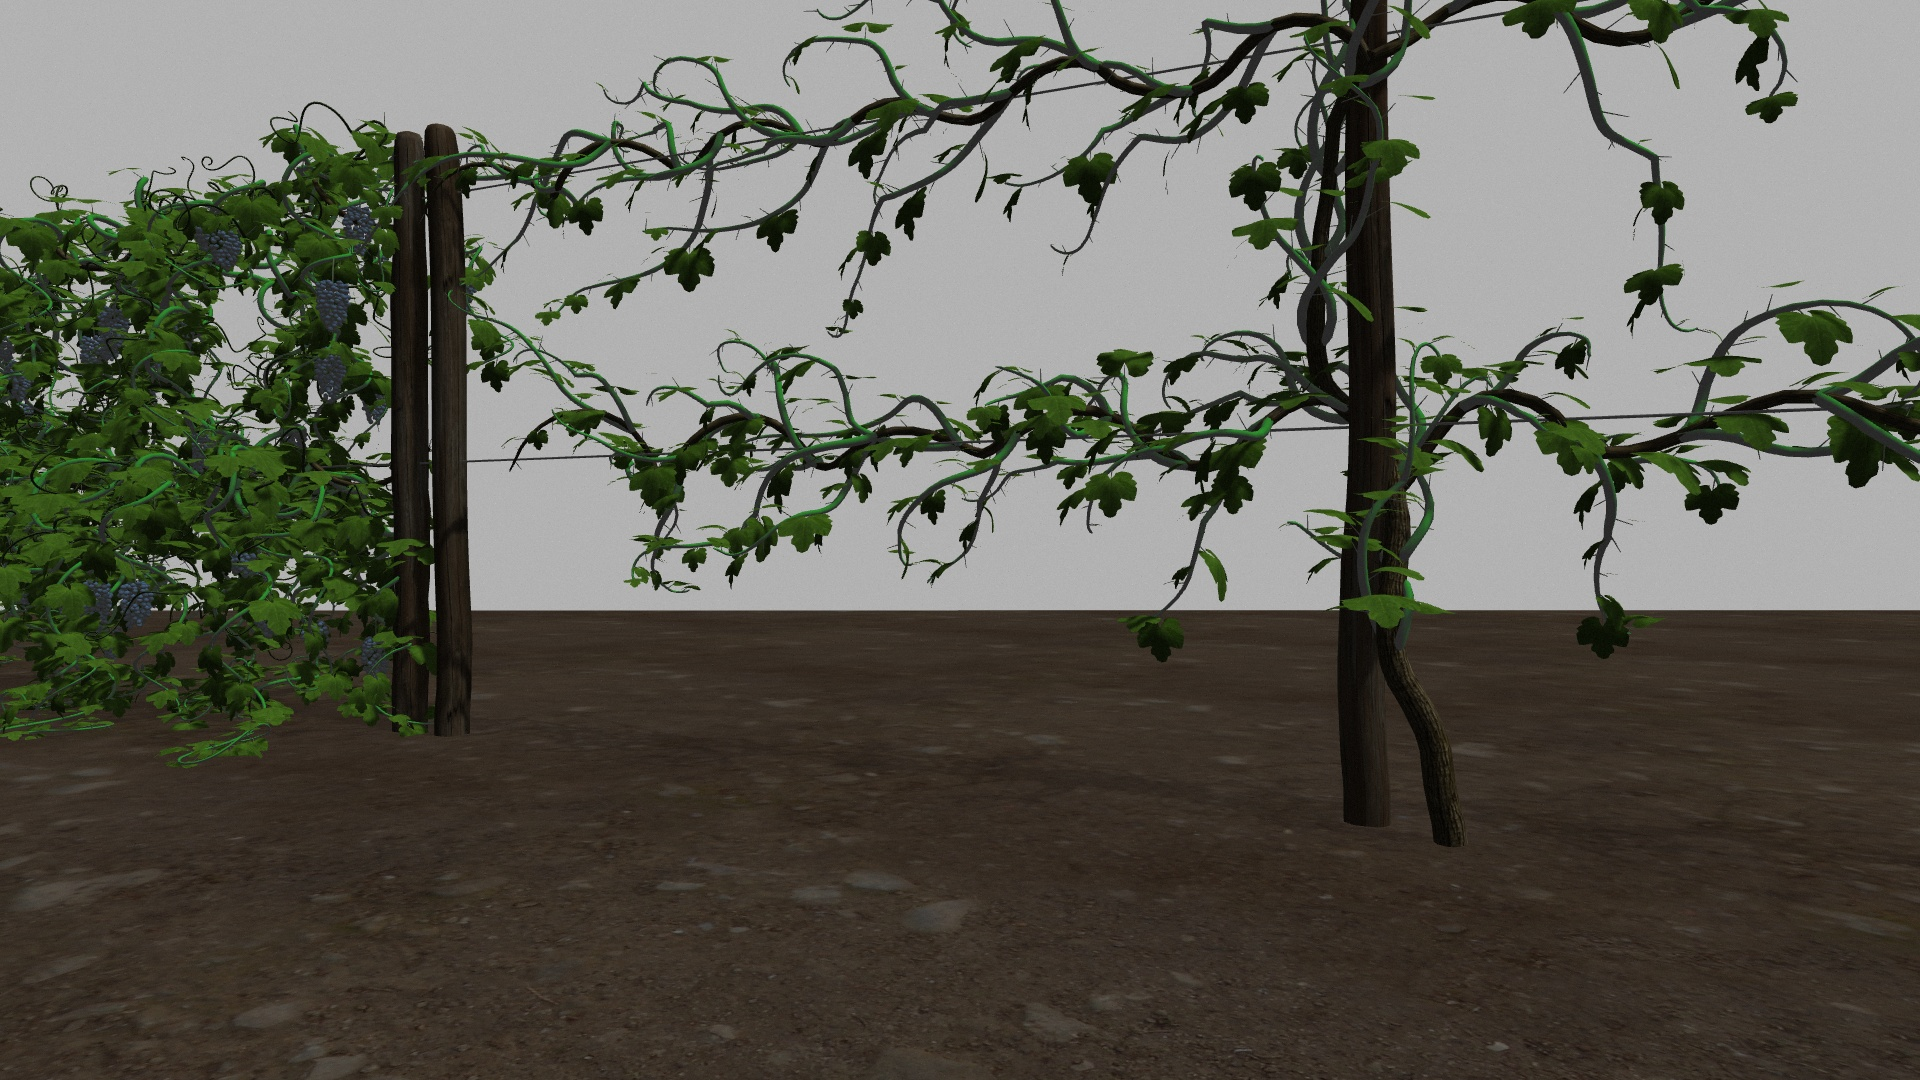grape: (313, 278, 351, 332), (342, 203, 378, 256), (310, 349, 348, 400), (202, 225, 243, 272), (117, 582, 156, 626), (98, 309, 132, 357), (88, 576, 115, 618), (357, 637, 381, 673), (9, 365, 32, 401), (76, 335, 102, 364)
